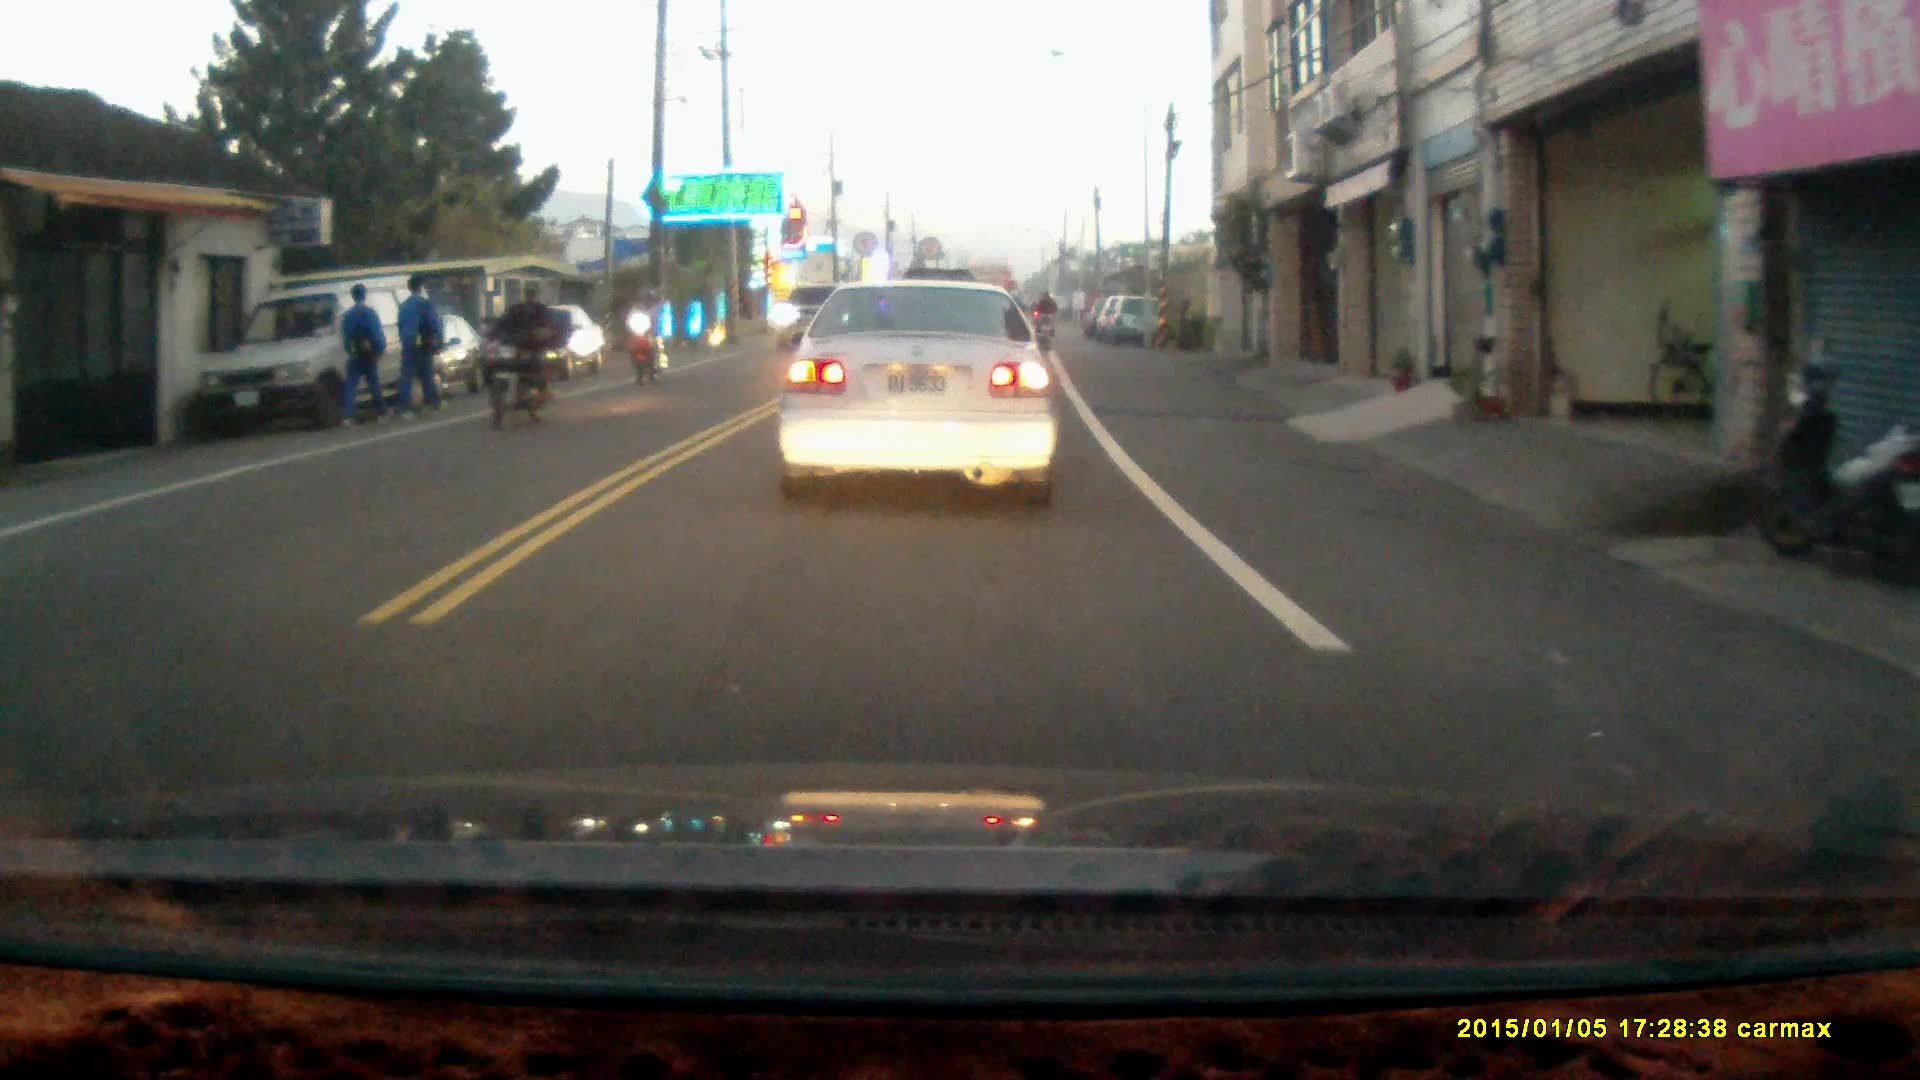pedestrian: (392, 270, 442, 421), (339, 278, 387, 427)
rider: (475, 277, 571, 430), (627, 287, 668, 386)
vehicle: (775, 277, 1062, 511), (198, 275, 445, 428), (471, 304, 601, 381), (1102, 299, 1167, 351)
